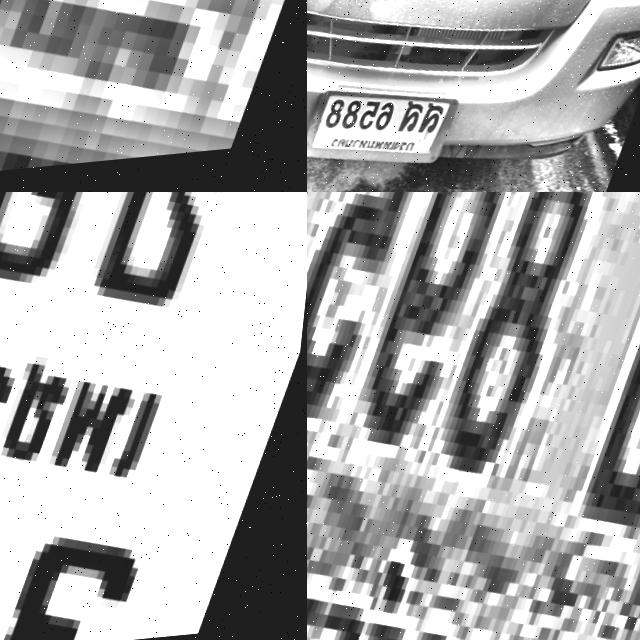license-plate: (307, 192, 640, 640), (0, 192, 307, 640), (0, 0, 307, 192), (307, 65, 474, 192)
